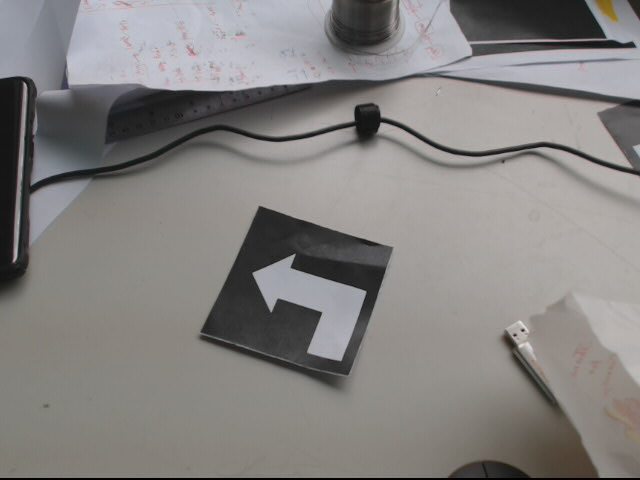left: (198, 204, 393, 381)
